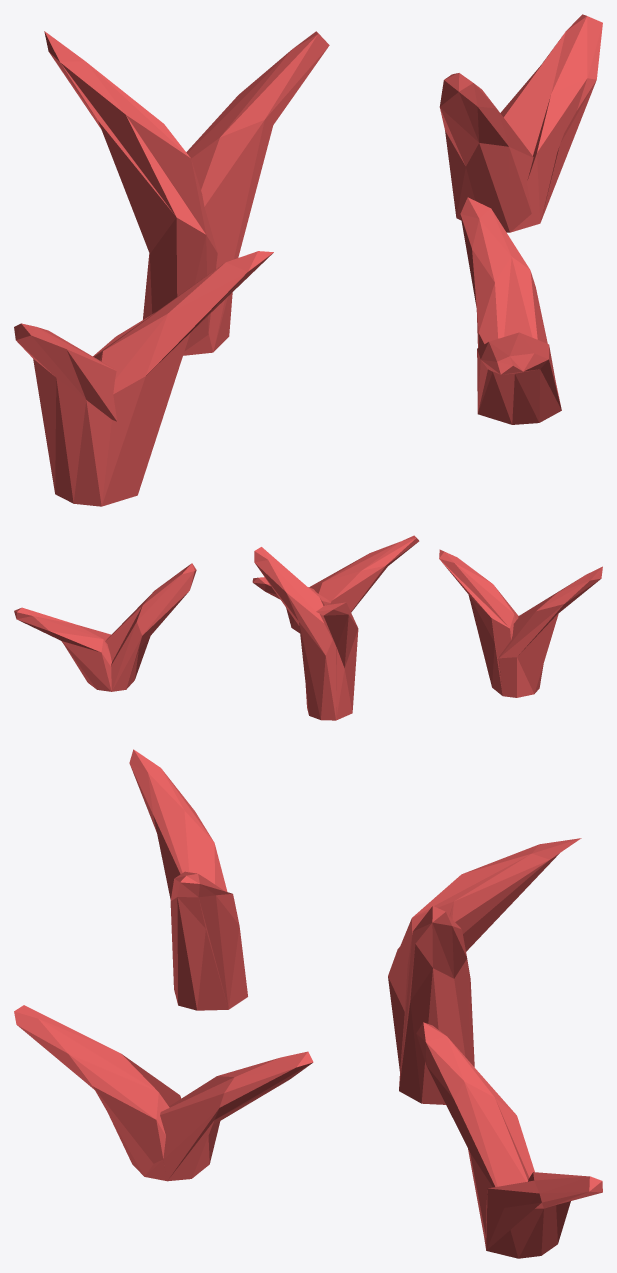
The model's file is pedal3.gltf.
3 renders of one model, top to bottom at view 1: azimuth 30°, elevation 25°; view 2: azimuth 150°, elevation 25°; view 3: azimuth 270°, elevation 25°, orthographic. The views are drawn at different scales.
Parts seen in each view (by area): view 1: Sphere.103_Flowers03_0; view 2: Sphere.103_Flowers03_0; view 3: Sphere.103_Flowers03_0.
Boxes of the visible parts, bbox=[...] form: Sphere.103_Flowers03_0: bbox=[14, 14, 602, 506]; Sphere.103_Flowers03_0: bbox=[14, 535, 602, 720]; Sphere.103_Flowers03_0: bbox=[14, 749, 602, 1258].
Size of the model in its own units: 0.2976 by 0.0925 by 0.2067.
